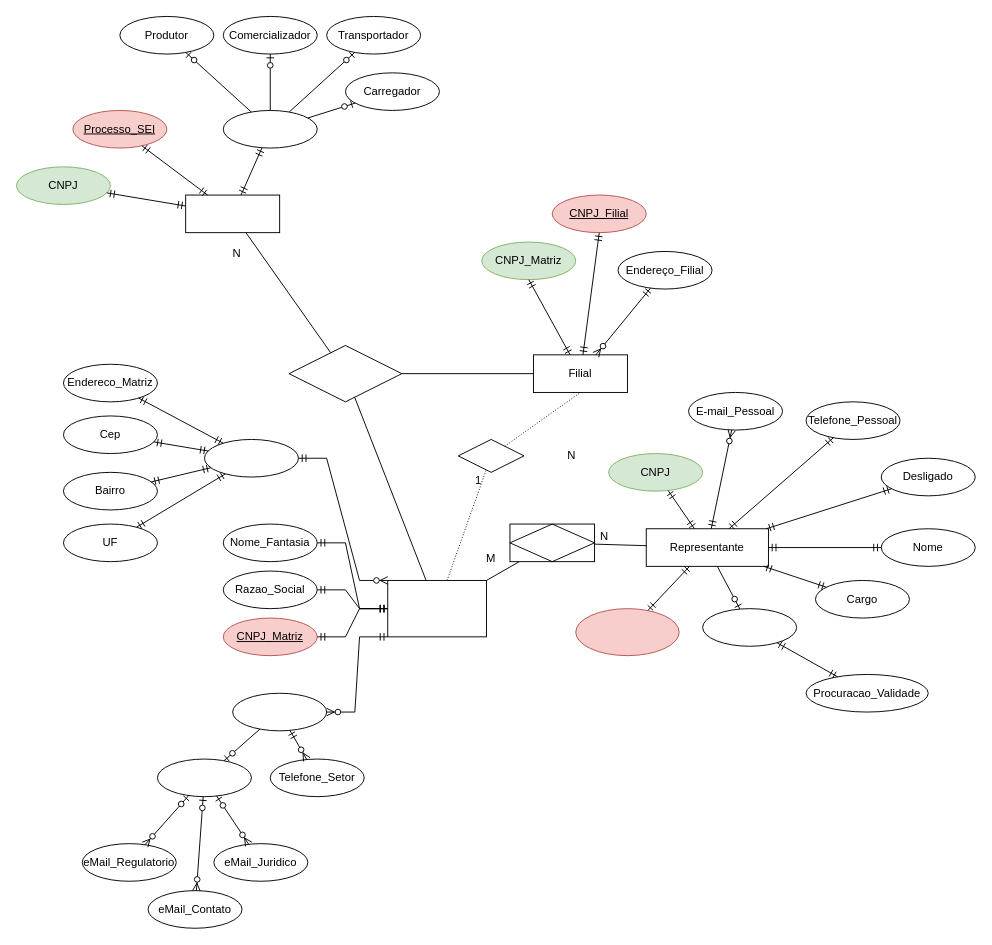
Some shapes in this 992 by 945 pixel diagram are drawn without their labels. The shapes that lost their labels are listed below. From the top down, each one's box as (x1, y1, x2, y2) in pixels, then its label:
(222, 110, 317, 148): Tipo de Autorização
(185, 194, 280, 233): Autorização
(288, 345, 402, 402): Possui
(204, 439, 298, 477): Local_Matriz
(457, 439, 524, 472): Contém
(509, 523, 595, 562): Representa
(387, 580, 486, 637): Agente
(702, 608, 797, 646): Procuracao
(575, 608, 679, 656): ID_Representante
(232, 692, 327, 731): Comunicacao
(157, 758, 251, 797): E-mail_Setor
